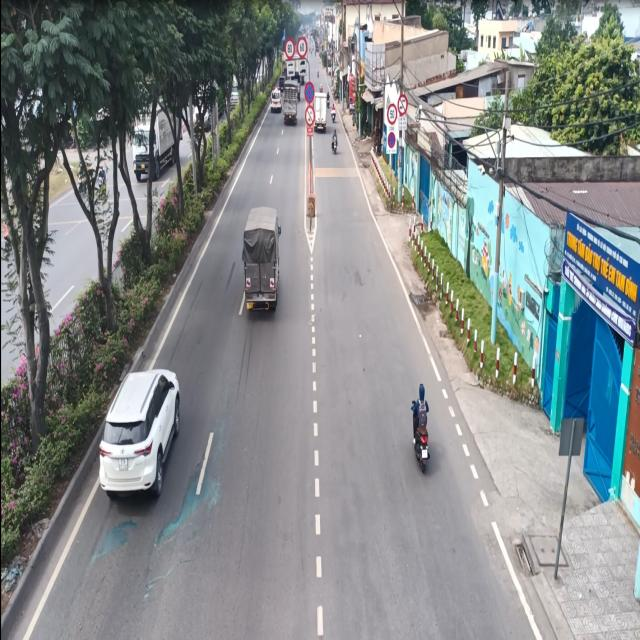car: (96, 356, 185, 514)
motor: (404, 374, 433, 474)
truck: (242, 195, 286, 319)
